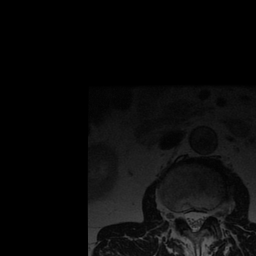CCS_normal: (190, 203, 198, 240)
LFS_normal: (207, 200, 215, 224)
LLS_normal: (199, 203, 207, 229)
RFS_normal: (174, 203, 182, 227)
RLS_normal: (182, 204, 190, 228)
